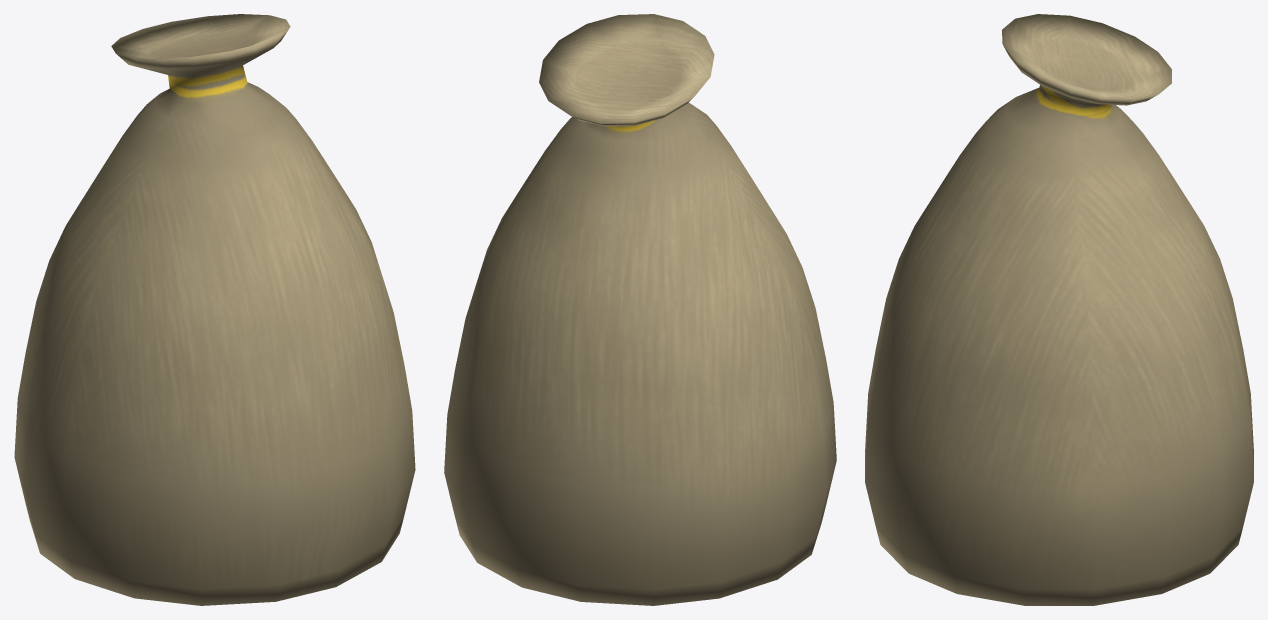
File: Model_TexturaSacoFechado_v1.fbx
3 renders of one model, left to right at view 1: azimuth 30°, elevation 25°; view 2: azimuth 150°, elevation 25°; view 3: azimuth 270°, elevation 25°, orthographic. The views are drawn at different scales.
Parts seen in each view (by area): view 1: Circle.001; view 2: Circle.001; view 3: Circle.001.
Part boxes in pixels (x1,y1,x2,y2): Circle.001: (14,14,415,605); Circle.001: (444,14,836,605); Circle.001: (865,14,1253,605).
Size of the model in its own units: 214 by 299 by 214.
